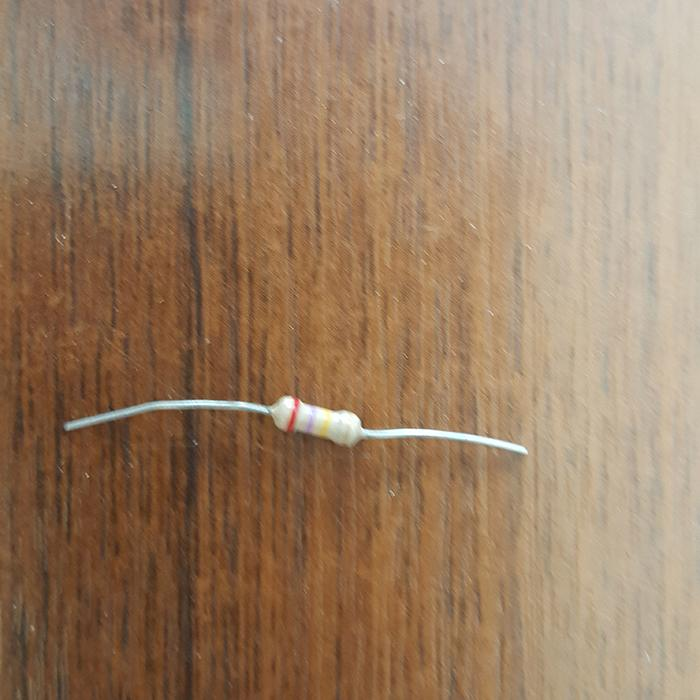resistor: (267, 394, 365, 445)
